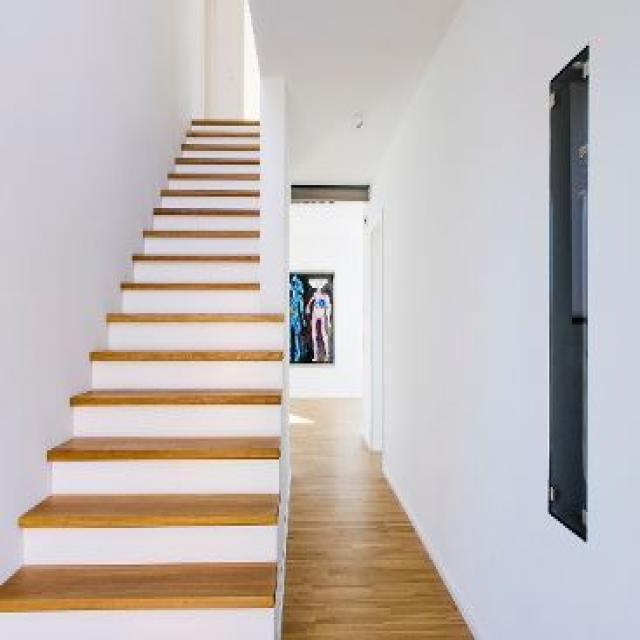stairs: (0, 114, 289, 637)
